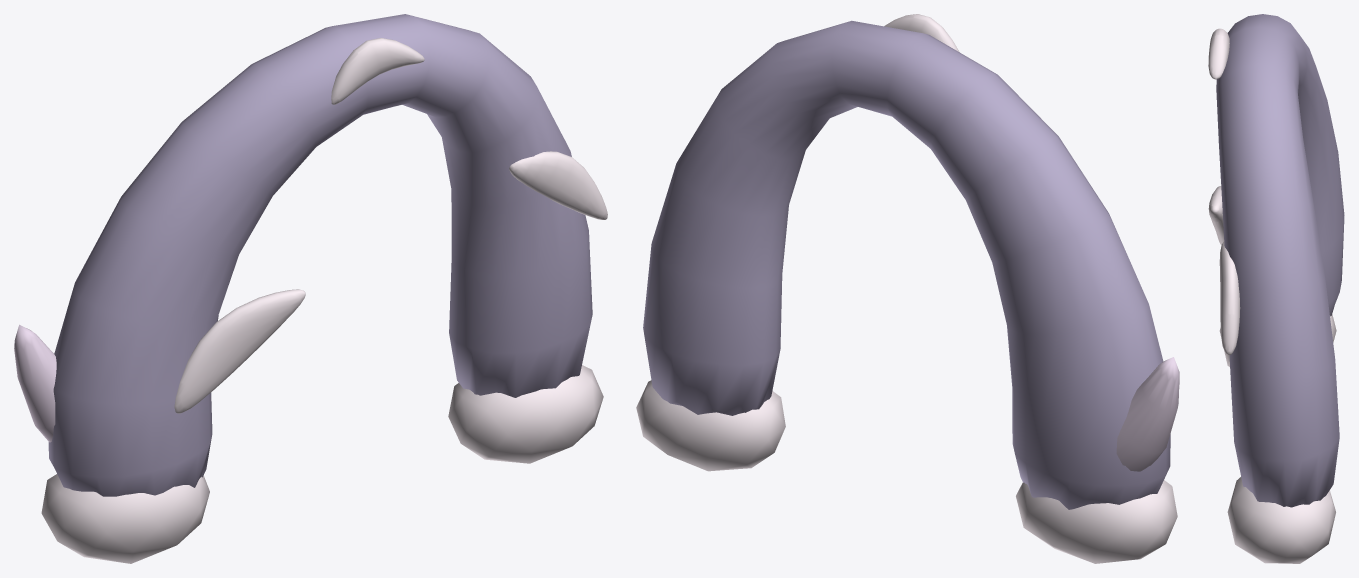
Rendered from moon_shell_arch.glb.
The picture shows the model from 3 angles, left to right: view 1: azimuth 30°, elevation 25°; view 2: azimuth 150°, elevation 25°; view 3: azimuth 270°, elevation 25°; orthographic projection. The views are drawn at different scales.
Visible parts, largest first — view 1: weathered_shell_mass, shell_lobe_0, shell_lobe_1, shell_shelf_0, shell_shelf_1, broken_shell_spur, shell_shelf_2; view 2: weathered_shell_mass, shell_lobe_0, shell_lobe_1, broken_shell_spur, shell_shelf_2; view 3: weathered_shell_mass, shell_lobe_1, shell_shelf_1, shell_shelf_2, shell_shelf_0.
Boxes of the visible parts, bbox=[...] form: weathered_shell_mass: bbox=[48, 14, 592, 496]; shell_lobe_0: bbox=[41, 474, 209, 563]; shell_lobe_1: bbox=[448, 365, 603, 463]; shell_shelf_0: bbox=[174, 289, 305, 413]; shell_shelf_1: bbox=[509, 151, 607, 219]; broken_shell_spur: bbox=[14, 324, 56, 442]; shell_shelf_2: bbox=[331, 38, 424, 104]; weathered_shell_mass: bbox=[643, 20, 1170, 509]; shell_lobe_0: bbox=[1016, 480, 1177, 563]; shell_lobe_1: bbox=[636, 380, 785, 471]; broken_shell_spur: bbox=[1116, 357, 1179, 471]; shell_shelf_2: bbox=[884, 14, 959, 52]; weathered_shell_mass: bbox=[1216, 14, 1344, 507]; shell_lobe_1: bbox=[1227, 477, 1335, 563]; shell_shelf_1: bbox=[1219, 241, 1240, 354]; shell_shelf_2: bbox=[1208, 28, 1229, 79]; shell_shelf_0: bbox=[1208, 186, 1224, 244].
Size of the model in its own units: 8.7 by 7.12 by 1.98.
